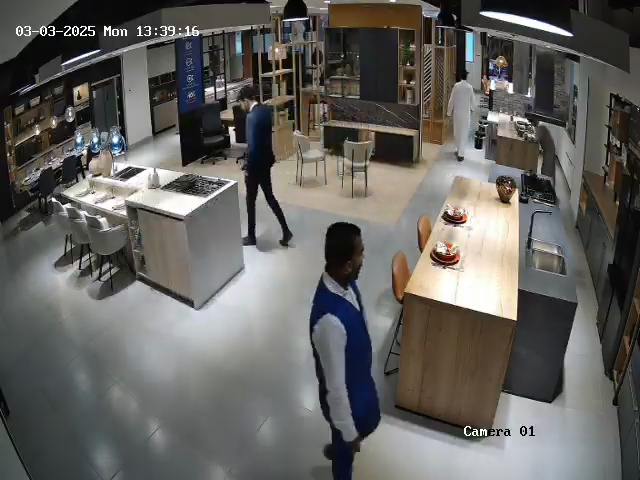employee: (309, 221, 382, 480), (237, 86, 294, 248)
male: (446, 71, 476, 163)
